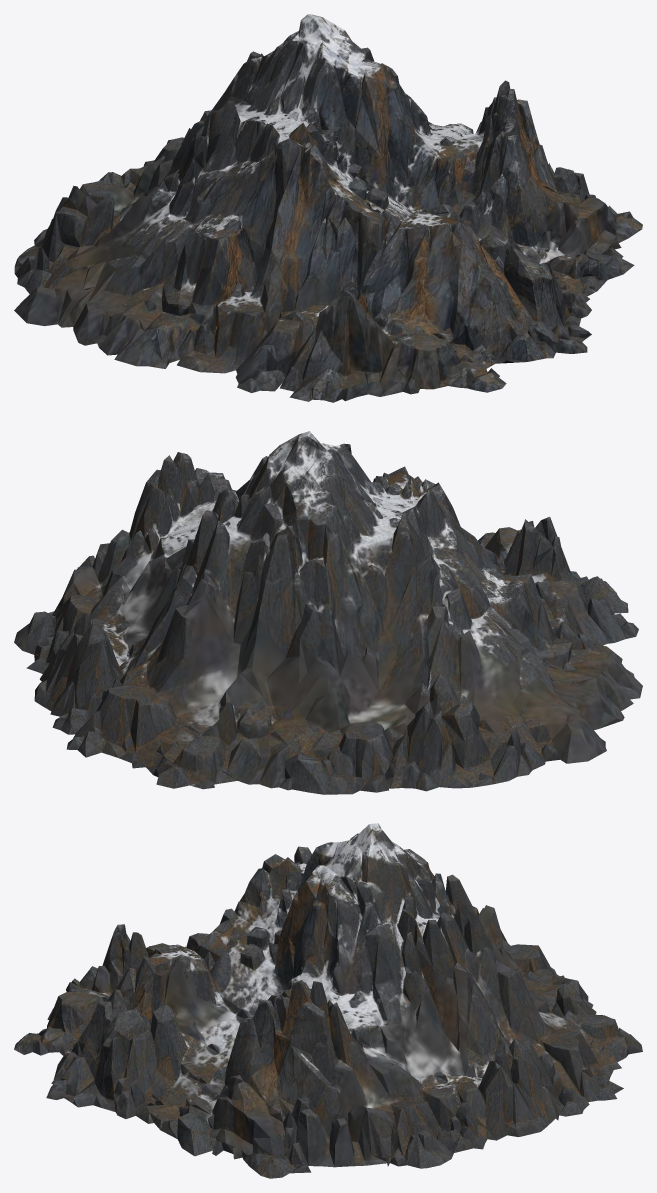
The model's file is peak_low.glb.
3 views of the same model, one above another, from view 1: azimuth 30°, elevation 25°; view 2: azimuth 150°, elevation 25°; view 3: azimuth 270°, elevation 25° (orthographic). The views are drawn at different scales.
Parts seen in each view (by area): view 1: peak_low; view 2: peak_low; view 3: peak_low.
Boxes of the visible parts, box(x1,y1,x2,y2) form: peak_low: box(14, 14, 642, 402); peak_low: box(14, 431, 642, 794); peak_low: box(14, 823, 642, 1178).
Bounding box in the file's own units: 1.49 × 0.6 × 1.51.
Materials: 1 (1 with a texture image).
